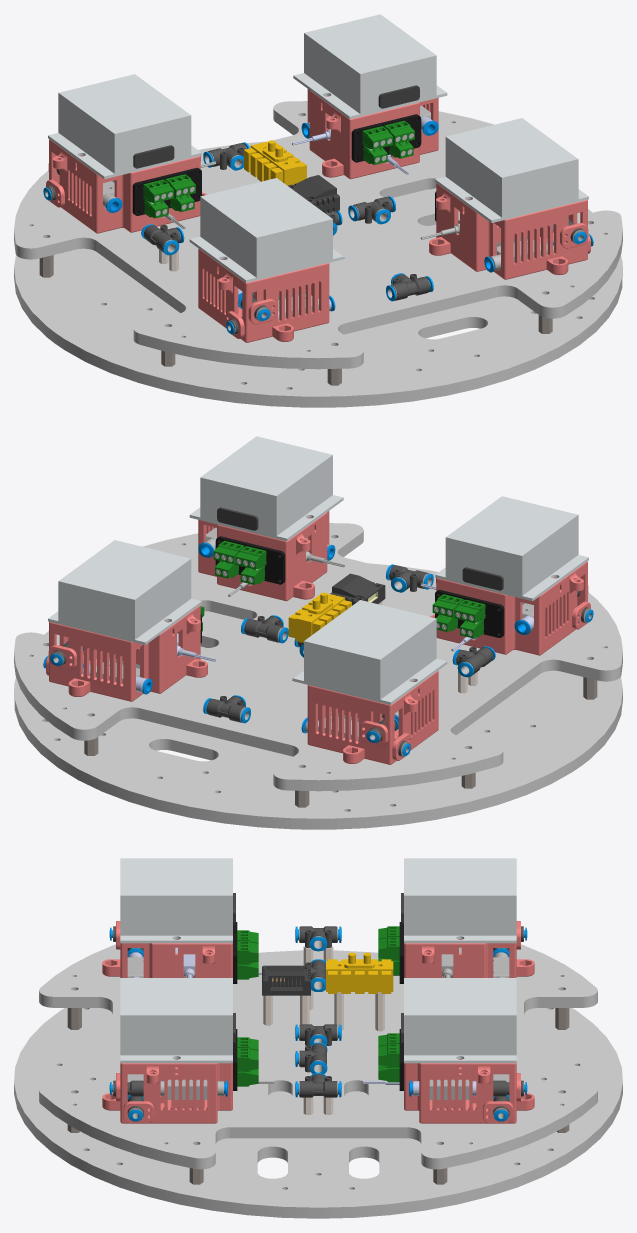
3 renders of one model, top to bottom at view 1: azimuth 30°, elevation 25°; view 2: azimuth 150°, elevation 25°; view 3: azimuth 270°, elevation 25°, orthographic.
Visible parts, largest first — view 1: alpha3_actuator_plate-2 - Part_clonedChild, alpha3_top_plate-1 - Part_clonedChild, Mirbuckboost-1 2 - Part, Mirbuckboost-1 3 - Part, Mirbuckboost-1 - Part, Mirbuckboost-1 4 - Part, actuator_mount_2_bottom-1 2 - Part, Miractuator_mount_2_bottom-1 - Part, actuator_mount_2_bottom-1 - Part, Miractuator_mount_2_bottom-1 2 - Part, tarot_distributor-1 - Part, actuator_mount_2_top-2 2 - Part (+13 smaller); view 2: alpha3_actuator_plate-2 - Part_clonedChild, alpha3_top_plate-1 - Part_clonedChild, Mirbuckboost-1 4 - Part, Mirbuckboost-1 - Part, Mirbuckboost-1 3 - Part, Mirbuckboost-1 2 - Part, Miractuator_mount_2_bottom-1 2 - Part, actuator_mount_2_bottom-1 - Part, Miractuator_mount_2_bottom-1 - Part, actuator_mount_2_bottom-1 2 - Part, tarot_distributor-1 - Part, Miractuator_mount_2_top-1 2 - Part (+14 smaller); view 3: alpha3_top_plate-1 - Part_clonedChild, alpha3_actuator_plate-2 - Part_clonedChild, Mirbuckboost-1 - Part, Mirbuckboost-1 2 - Part, Mirbuckboost-1 3 - Part, Mirbuckboost-1 4 - Part, actuator_mount_2_bottom-1 2 - Part, Miractuator_mount_2_bottom-1 2 - Part, actuator_mount_2_bottom-1 - Part, Miractuator_mount_2_bottom-1 - Part, tarot_distributor-1 - Part, PIXHAWK 6X MINI PWM MODULE-1 - Part (+10 smaller).
Boxes of the visible parts, bbox=[...] form: alpha3_actuator_plate-2 - Part_clonedChild: bbox=[14, 101, 622, 369]; alpha3_top_plate-1 - Part_clonedChild: bbox=[14, 141, 622, 407]; Mirbuckboost-1 2 - Part: bbox=[435, 118, 588, 222]; Mirbuckboost-1 3 - Part: bbox=[189, 178, 343, 282]; Mirbuckboost-1 - Part: bbox=[48, 74, 201, 179]; Mirbuckboost-1 4 - Part: bbox=[293, 14, 447, 119]; actuator_mount_2_bottom-1 2 - Part: bbox=[429, 194, 587, 279]; Miractuator_mount_2_bottom-1 - Part: bbox=[198, 259, 329, 342]; actuator_mount_2_bottom-1 - Part: bbox=[49, 150, 206, 233]; Miractuator_mount_2_bottom-1 2 - Part: bbox=[307, 89, 438, 179]; tarot_distributor-1 - Part: bbox=[244, 140, 306, 185]; actuator_mount_2_top-2 2 - Part: bbox=[436, 183, 587, 230]; alpha3_actuator_plate-2 - Part_clonedChild: bbox=[14, 523, 622, 791]; alpha3_top_plate-1 - Part_clonedChild: bbox=[14, 563, 622, 829]; Mirbuckboost-1 4 - Part: bbox=[48, 540, 201, 644]; Mirbuckboost-1 - Part: bbox=[293, 600, 447, 704]; Mirbuckboost-1 3 - Part: bbox=[435, 496, 588, 601]; Mirbuckboost-1 2 - Part: bbox=[189, 436, 343, 541]; Miractuator_mount_2_bottom-1 2 - Part: bbox=[49, 616, 207, 701]; actuator_mount_2_bottom-1 - Part: bbox=[307, 681, 438, 764]; Miractuator_mount_2_bottom-1 - Part: bbox=[430, 572, 587, 655]; actuator_mount_2_bottom-1 2 - Part: bbox=[198, 511, 329, 601]; tarot_distributor-1 - Part: bbox=[288, 592, 351, 642]; Miractuator_mount_2_top-1 2 - Part: bbox=[49, 605, 200, 652]; alpha3_top_plate-1 - Part_clonedChild: bbox=[14, 950, 622, 1218]; alpha3_actuator_plate-2 - Part_clonedChild: bbox=[39, 944, 597, 1169]; Mirbuckboost-1 - Part: bbox=[404, 858, 516, 943]; Mirbuckboost-1 2 - Part: bbox=[120, 978, 232, 1063]; Mirbuckboost-1 3 - Part: bbox=[120, 858, 232, 943]; Mirbuckboost-1 4 - Part: bbox=[404, 978, 516, 1063]; actuator_mount_2_bottom-1 2 - Part: bbox=[102, 1063, 232, 1123]; Miractuator_mount_2_bottom-1 2 - Part: bbox=[404, 1063, 534, 1123]; actuator_mount_2_bottom-1 - Part: bbox=[404, 947, 534, 977]; Miractuator_mount_2_bottom-1 - Part: bbox=[102, 947, 232, 977]; tarot_distributor-1 - Part: bbox=[326, 952, 393, 993]; PIXHAWK 6X MINI PWM MODULE-1 - Part: bbox=[262, 965, 310, 995].
Bounding box in the file's own units: 0.4 × 0.111 × 0.3998.
